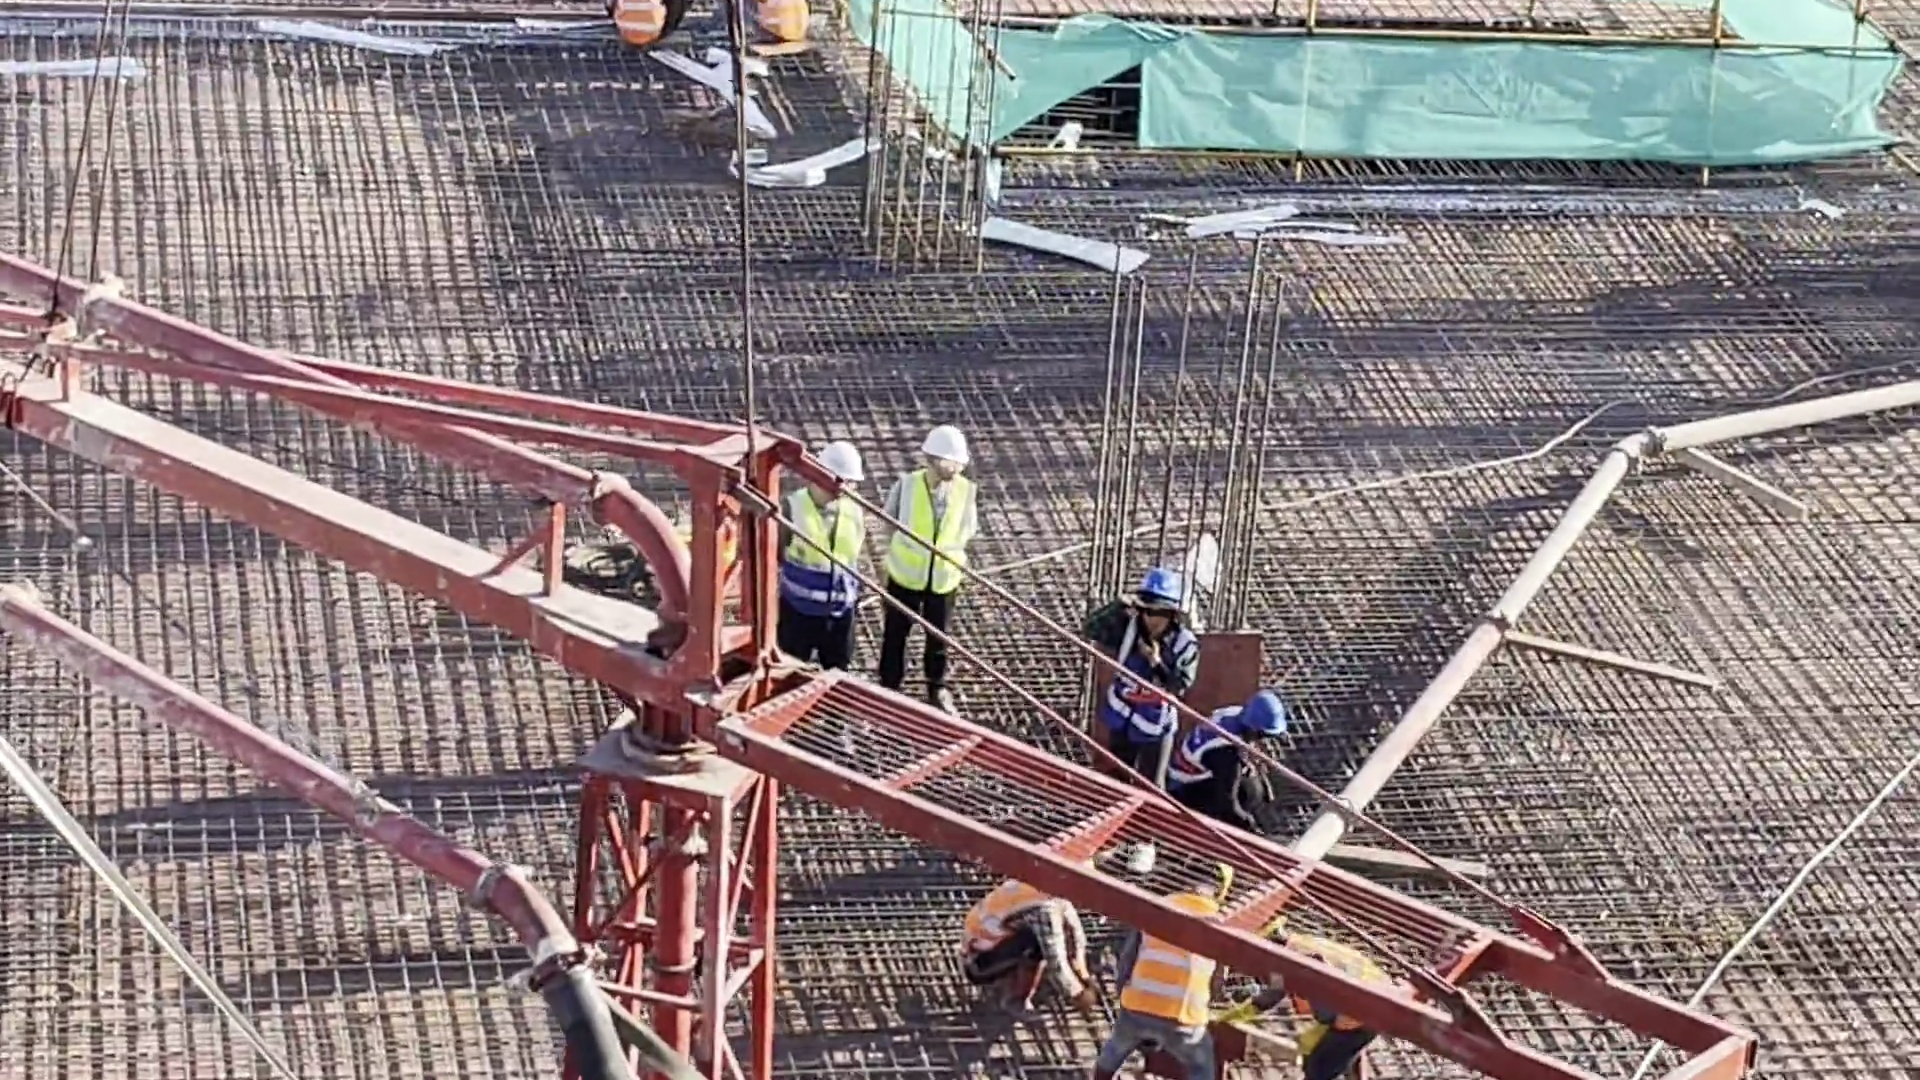helmet: (920, 423, 969, 464), (1150, 571, 1188, 617), (817, 446, 866, 481), (1117, 834, 1155, 876), (1248, 698, 1285, 740), (1212, 854, 1238, 883)
person: (1093, 845, 1242, 1080), (880, 427, 986, 717), (1229, 897, 1398, 1080), (958, 834, 1112, 1021), (1074, 565, 1197, 793), (764, 439, 867, 700), (1174, 668, 1286, 857), (599, 1, 692, 48), (734, 1, 828, 46)
vest: (1282, 938, 1381, 1044), (1129, 894, 1209, 1023), (783, 499, 869, 610), (886, 476, 967, 594), (1113, 625, 1186, 717), (948, 877, 1035, 946), (1177, 719, 1244, 785), (605, 6, 666, 46), (753, 2, 808, 38)
